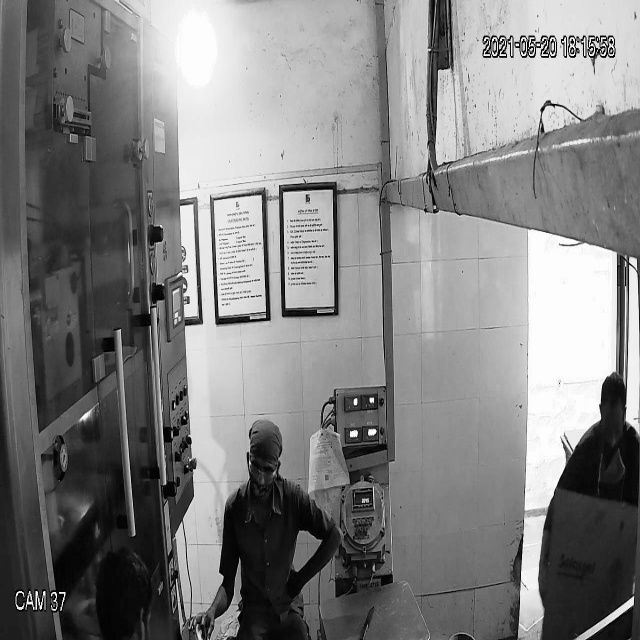Gafas: (241, 449, 280, 487)
